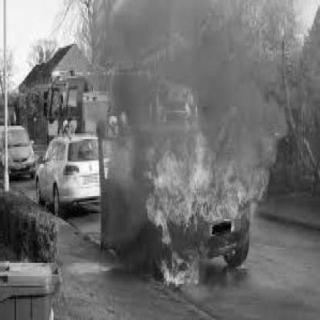Fire: (157, 245, 205, 289)
Smoke: (201, 16, 270, 113), (101, 0, 187, 61), (114, 132, 146, 204)
